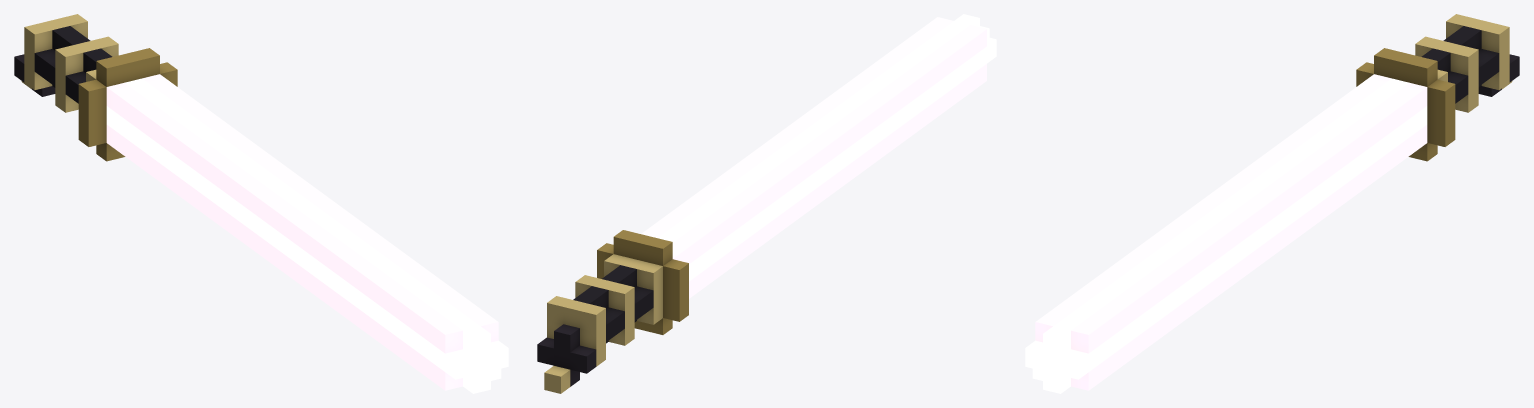
The model's file is saber_emperor.glb.
3 renders of one model, left to right at view 1: azimuth 30°, elevation 25°; view 2: azimuth 150°, elevation 25°; view 3: azimuth 330°, elevation 25°, orthographic. The views are drawn at different scales.
Parts seen in each view (by area): view 1: saber_emperor_body; view 2: saber_emperor_body; view 3: saber_emperor_body.
Part boxes in pixels (x1,y1,x2,y2): saber_emperor_body: (14,14,508,393); saber_emperor_body: (537,14,996,393); saber_emperor_body: (1025,14,1519,393).
Size of the model in its own units: 0.1953 by 0.1953 by 1.76.
1 material, 1 textured.
